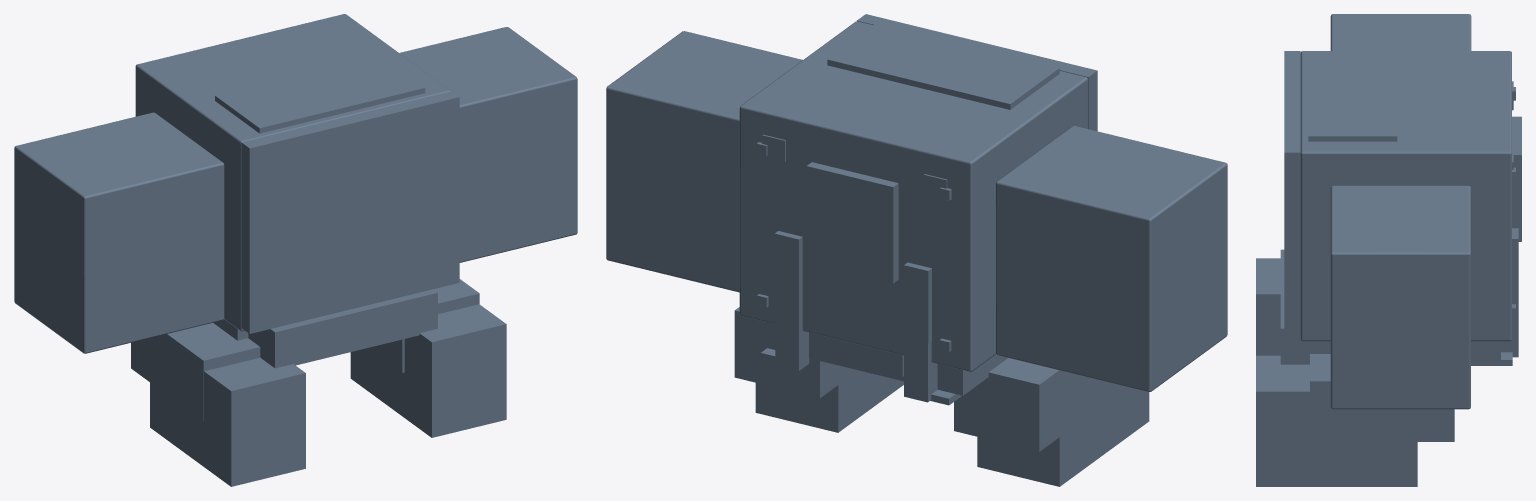
Rendered from UNIT07_RobotPlaceholder.fbx.
3 views of the same model, side by side, from view 1: azimuth 30°, elevation 25°; view 2: azimuth 150°, elevation 25°; view 3: azimuth 270°, elevation 25° (orthographic). The views are drawn at different scales.
Visible parts, largest first — view 1: PH_Engine_R, PH_Front_Bezel, PH_Engine_L, PH_Body_Shell, PH_Arm_R_Working, PH_Arm_L_Working, PH_Top_Cover, PH_Chin, PH_Arm_R_Stowed, PH_Arm_L_Stowed; view 2: PH_Body_Shell, PH_Engine_R, PH_Engine_L, PH_Top_Cover, PH_Arm_R_Stowed, PH_Rear_Cassette, PH_Arm_R_Working, PH_Arm_L_Working, PH_Arm_L_Stowed, PH_Lower_Module, PH_Front_Bezel, PH_MountRail_L_Upper (+4 smaller); view 3: PH_Body_Shell, PH_Engine_L, PH_Arm_L_Working, PH_Top_Cover, PH_Arm_L_Stowed, PH_Engine_R, PH_Front_Bezel, PH_Arm_R_Working, PH_Chin, PH_Rear_Cassette, PH_Lower_Module, PH_MountRail_L_Upper (+1 smaller).
Part boxes in pixels (left/top/right/bottom): PH_Engine_R: left=14, top=112, right=224, bottom=353; PH_Front_Bezel: left=241, top=91, right=459, bottom=333; PH_Engine_L: left=399, top=27, right=577, bottom=262; PH_Body_Shell: left=135, top=14, right=450, bottom=331; PH_Arm_R_Working: left=150, top=357, right=305, bottom=486; PH_Arm_L_Working: left=350, top=304, right=506, bottom=437; PH_Top_Cover: left=215, top=55, right=425, bottom=133; PH_Chin: left=248, top=289, right=437, bottom=368; PH_Arm_R_Stowed: left=131, top=323, right=260, bottom=421; PH_Arm_L_Stowed: left=368, top=279, right=479, bottom=372; PH_Body_Shell: left=739, top=21, right=1087, bottom=371; PH_Engine_R: left=996, top=126, right=1227, bottom=391; PH_Engine_L: left=606, top=31, right=802, bottom=292; PH_Top_Cover: left=827, top=23, right=1059, bottom=109; PH_Arm_R_Stowed: left=954, top=358, right=1119, bottom=451; PH_Rear_Cassette: left=806, top=162, right=898, bottom=283; PH_Arm_R_Working: left=977, top=385, right=1149, bottom=486; PH_Arm_L_Working: left=755, top=370, right=903, bottom=432; PH_Arm_L_Stowed: left=734, top=307, right=857, bottom=398; PH_Lower_Module: left=759, top=320, right=1007, bottom=395; PH_Front_Bezel: left=857, top=14, right=1097, bottom=131; PH_MountRail_L_Upper: left=774, top=231, right=802, bottom=312; PH_Body_Shell: left=1300, top=51, right=1511, bottom=341; PH_Engine_L: left=1330, top=185, right=1470, bottom=409; PH_Arm_L_Working: left=1256, top=355, right=1417, bottom=486; PH_Top_Cover: left=1308, top=55, right=1397, bottom=141; PH_Arm_L_Stowed: left=1310, top=354, right=1454, bottom=441; PH_Engine_R: left=1330, top=14, right=1471, bottom=50; PH_Front_Bezel: left=1284, top=51, right=1300, bottom=337; PH_Arm_R_Working: left=1256, top=258, right=1280, bottom=355; PH_Chin: left=1280, top=249, right=1330, bottom=364; PH_Rear_Cassette: left=1512, top=116, right=1521, bottom=241; PH_Lower_Module: left=1471, top=341, right=1500, bottom=363; PH_MountRail_L_Upper: left=1512, top=228, right=1518, bottom=304.
Bounding box in the file's own units: 1.02 × 0.6429 × 0.4775.
